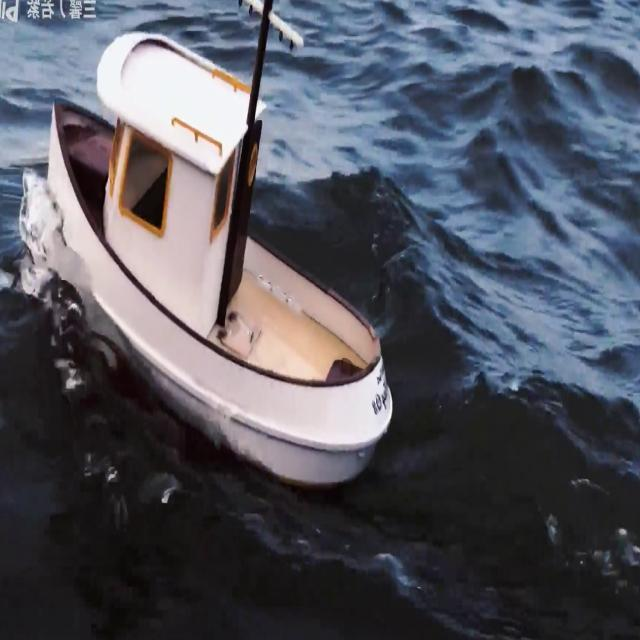houseboat: (41, 0, 398, 477)
